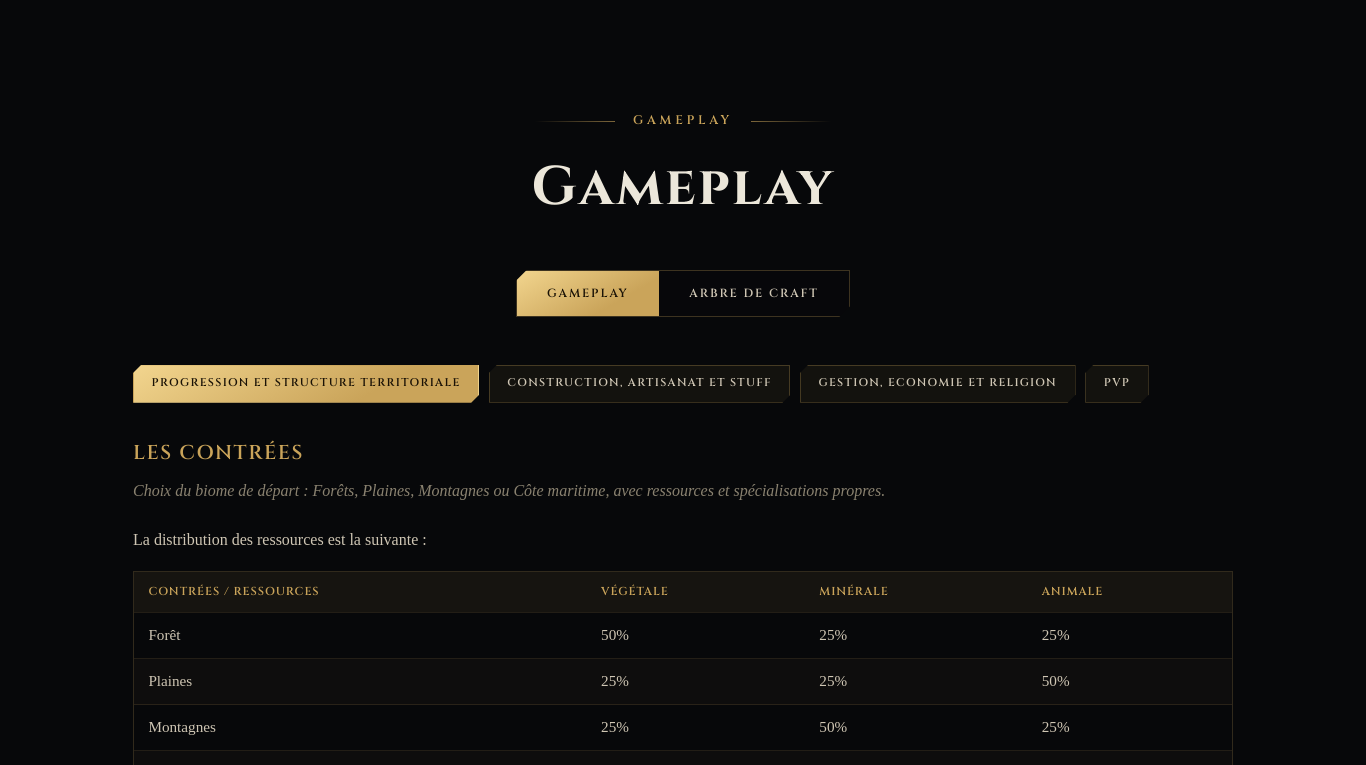
page Gameplay › bascule sur l’arbre de craft via le sous-onglet
This screenshot has width=1366, height=765.
Click the tab with class "gp__subtab" showing "Arbre de craft". click: {"x": 754, "y": 293}
box: left=659, top=271, right=849, bottom=316
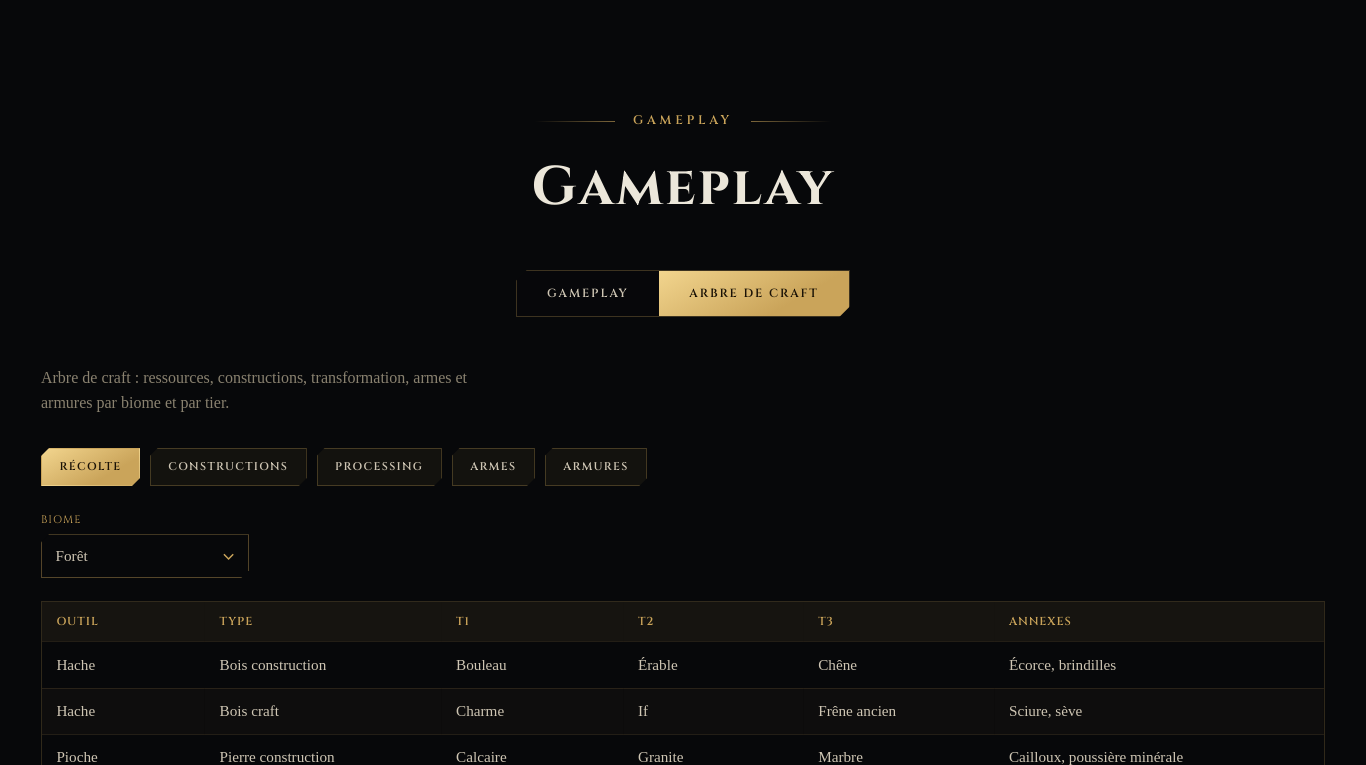
expect the number of tabs with class "craft__tab" is 5: met, box left=41, top=448, right=140, bottom=486; left=150, top=448, right=307, bottom=486; left=316, top=448, right=442, bottom=486; left=452, top=448, right=535, bottom=486; left=545, top=448, right=647, bottom=486
expect no tabs with class "categories__tab" are shown: met
